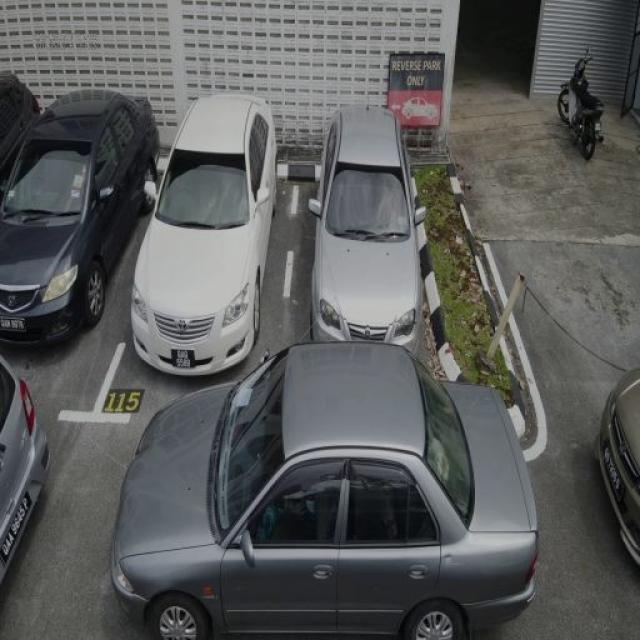Legalparking: (131, 92, 276, 375), (0, 89, 159, 344), (309, 106, 425, 350)
illegalparking: (114, 345, 535, 639), (0, 358, 49, 582), (596, 368, 639, 564)
